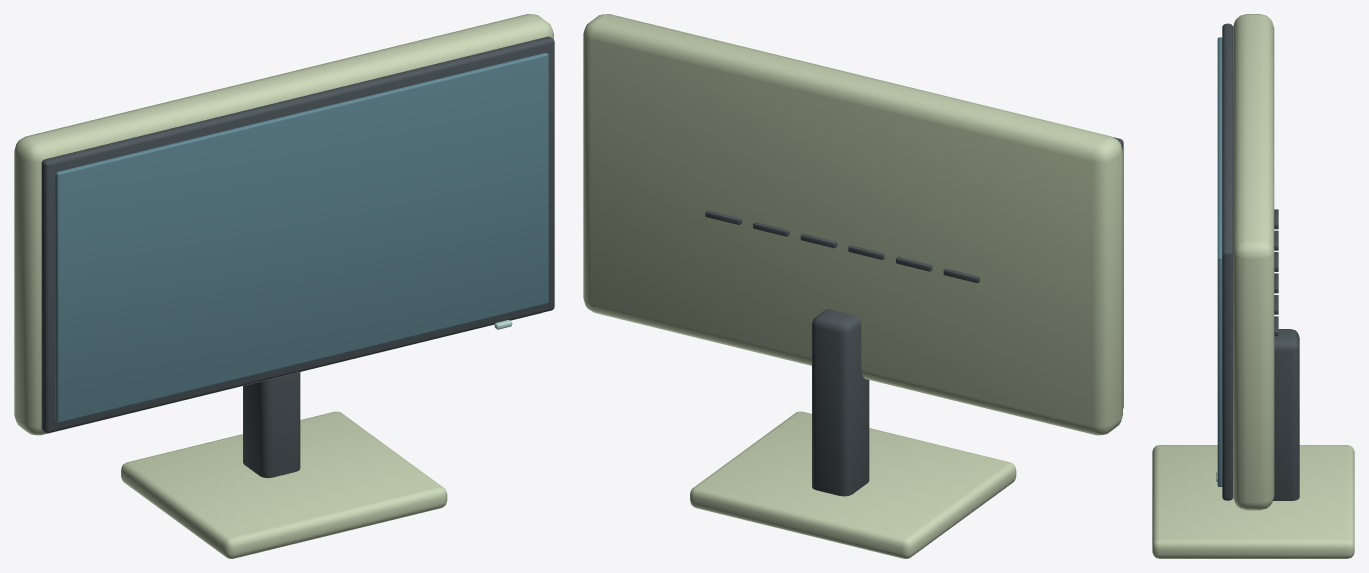
Rendered from desktop-monitor.glb.
The picture shows the model from 3 angles, left to right: view 1: azimuth 30°, elevation 25°; view 2: azimuth 150°, elevation 25°; view 3: azimuth 270°, elevation 25°; orthographic projection. The views are drawn at different scales.
Parts seen in each view (by area): view 1: catalog_surface_UVMap, catalog_surface_RealismUV; view 2: catalog_surface_RealismUV; view 3: catalog_surface_RealismUV, catalog_surface_UVMap.
Part boxes in pixels (<box>): catalog_surface_UVMap: <box>55,52,548,422</box>; catalog_surface_RealismUV: <box>14,14,554,558</box>; catalog_surface_RealismUV: <box>583,14,1123,558</box>; catalog_surface_RealismUV: <box>1152,14,1354,558</box>; catalog_surface_UVMap: <box>1216,37,1222,486</box>.
Size of the model in its own units: 0.61 by 0.46 by 0.22.
